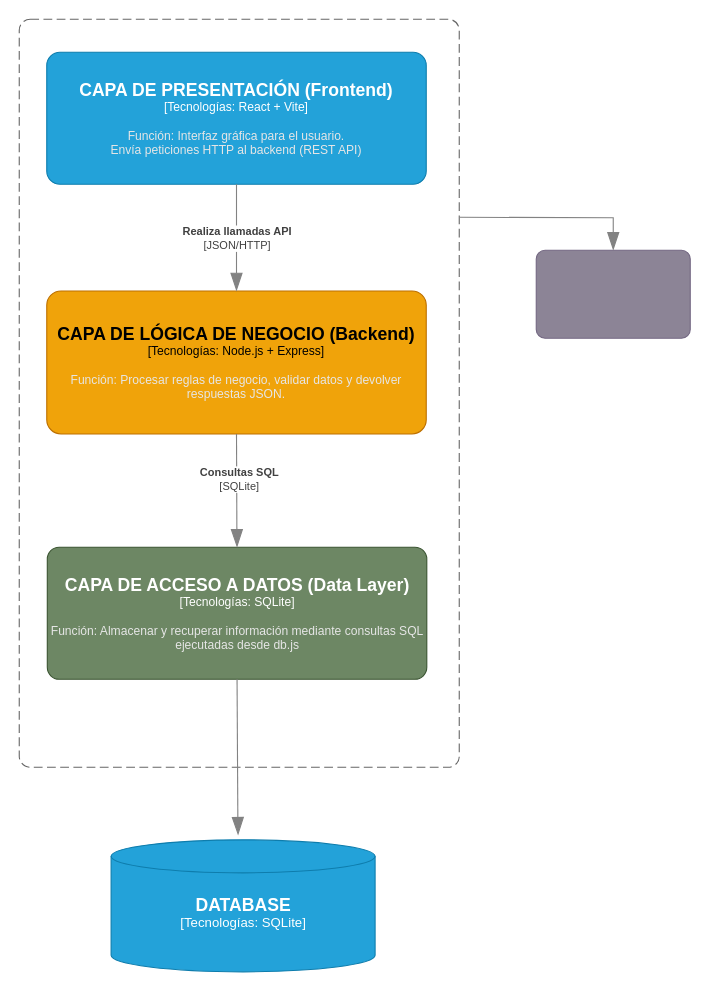
Some shapes in this 710 by 991 pixel diagram are drawn without their labels. The box of each missing label's shape, as (x1, y1, x2, y2) in pixels:
[Colombia Raíces ]: (18, 18, 459, 767)
GLUE CODE [Electron JS]: (535, 249, 690, 338)
